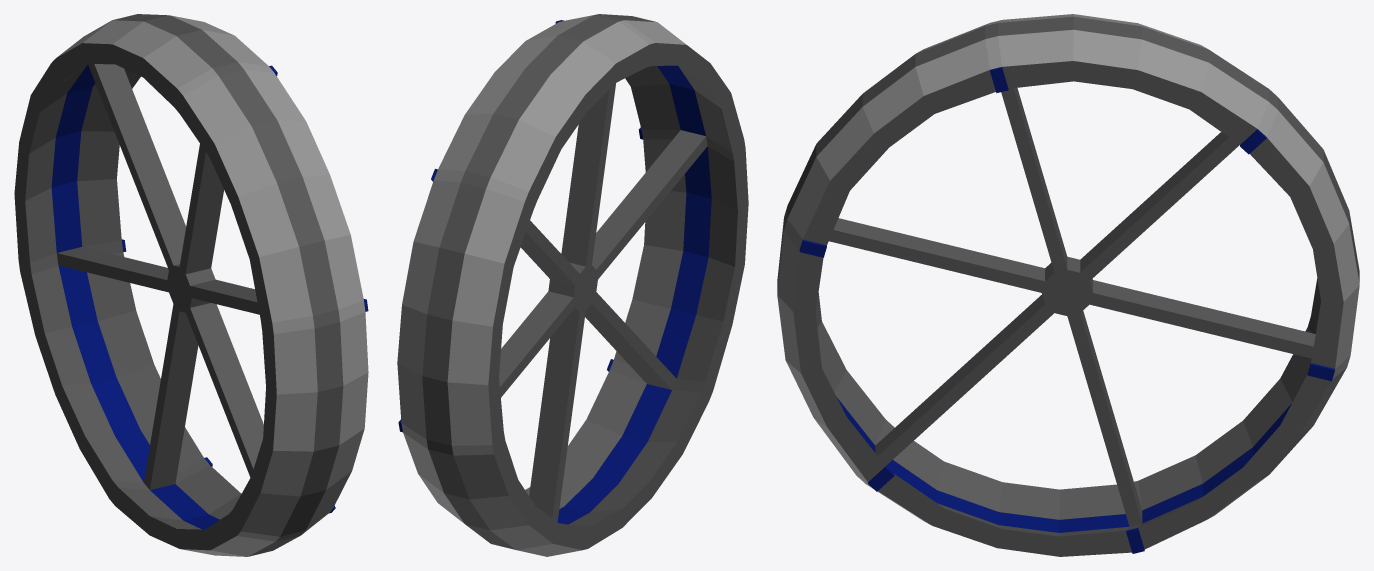
The model's file is big_wheel.glb.
3 renders of one model, left to right at view 1: azimuth 30°, elevation 25°; view 2: azimuth 150°, elevation 25°; view 3: azimuth 270°, elevation 25°, orthographic. The views are drawn at different scales.
Visible parts, largest first — view 1: BigWheel; view 2: BigWheel; view 3: BigWheel.
Part boxes in pixels (x1=…): BigWheel: x1=14, y1=14, x2=368, y2=556; BigWheel: x1=397, y1=14, x2=748, y2=556; BigWheel: x1=777, y1=14, x2=1359, y2=556.
Bounding box in the file's own units: 193 × 974 × 980.
